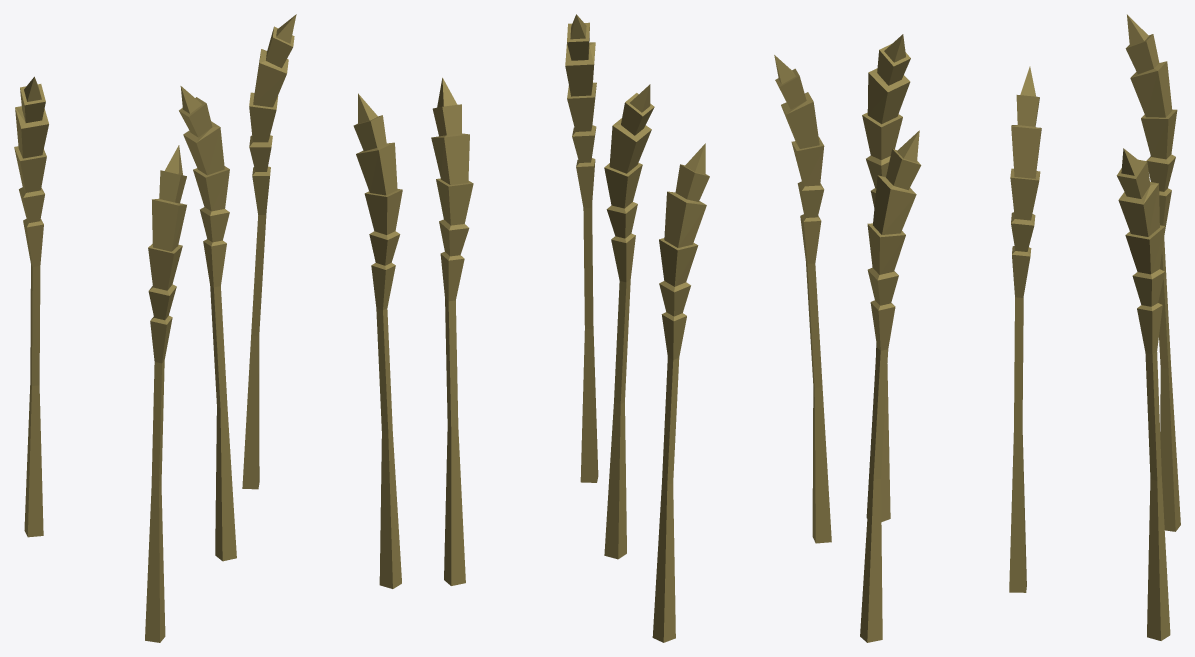
File: crop_wheat.s4.glb
3 views of the same model, side by side, from view 1: azimuth 30°, elevation 25°; view 2: azimuth 150°, elevation 25°; view 3: azimuth 270°, elevation 25° (orthographic). The views are drawn at different scales.
Bounding box in the file's own units: 0.596 × 1 × 0.5783.
